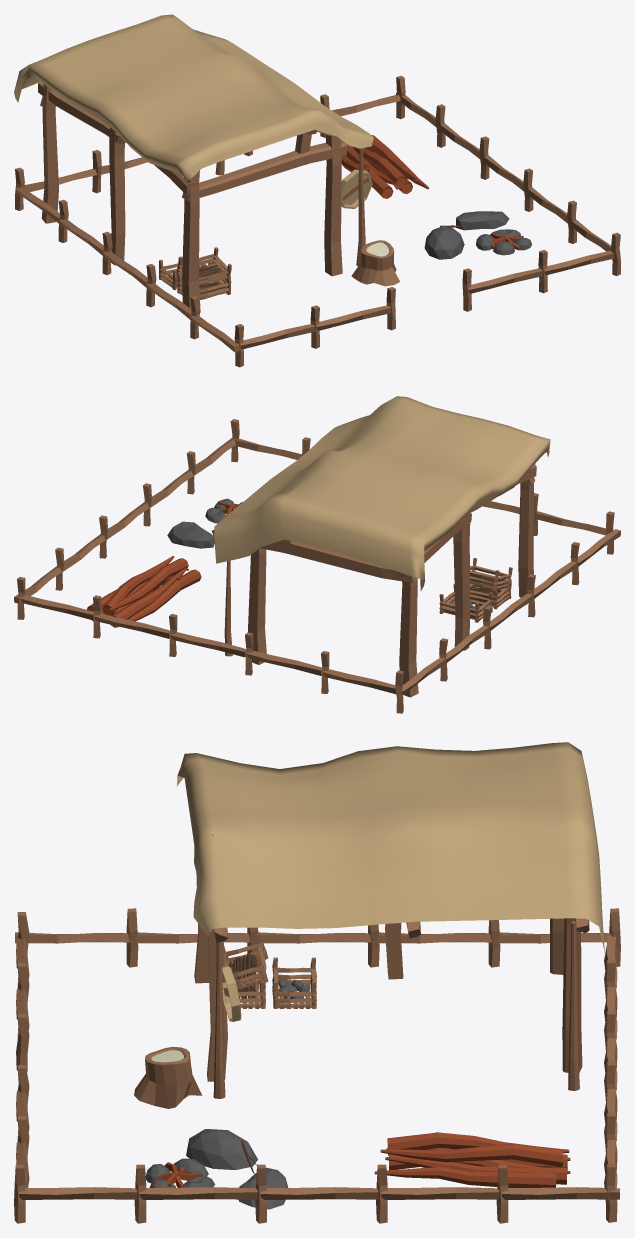
The model's file is Tower1.fbx.
The picture shows the model from 3 angles, top to bottom: view 1: azimuth 30°, elevation 25°; view 2: azimuth 150°, elevation 25°; view 3: azimuth 270°, elevation 25°; orthographic projection. The views are drawn at different scales.
Visible parts, largest first — view 1: Shelter.001, Fences.001, CampFire.001, Cylinder, Log.001, StickPile.002, Circle.001, StickPile.003; view 2: Shelter.001, Fences.001, Cylinder, CampFire.001, StickPile.002, RockPile.001, StickPile.003; view 3: Shelter.001, Fences.001, Cylinder, CampFire.001, Log.001, RockPile.001, StickPile.002, Circle.001.
Boxes of the visible parts, box(x1,y1,x2,y2) form: Shelter.001: box(14, 14, 373, 312); Fences.001: box(15, 75, 620, 367); CampFire.001: box(424, 211, 531, 259); Cylinder: box(341, 135, 428, 198); Log.001: box(351, 240, 400, 286); StickPile.002: box(176, 247, 231, 285); Circle.001: box(341, 169, 372, 208); StickPile.003: box(177, 274, 231, 299); Shelter.001: box(212, 396, 550, 697); Fences.001: box(14, 419, 620, 713); Cylinder: box(86, 556, 201, 627); CampFire.001: box(167, 498, 242, 548); StickPile.002: box(470, 558, 512, 590); RockPile.001: box(439, 584, 492, 622); StickPile.003: box(470, 570, 511, 609); Shelter.001: box(176, 742, 604, 1098); Fences.001: box(14, 908, 620, 1223); Cylinder: box(374, 1132, 570, 1187); CampFire.001: box(145, 1129, 288, 1209); Log.001: box(134, 1047, 202, 1108); RockPile.001: box(272, 957, 316, 1008); StickPile.002: box(224, 932, 268, 989); Circle.001: box(222, 965, 241, 1021).
Bounding box in the file's own units: 203 × 85.46 × 194.
